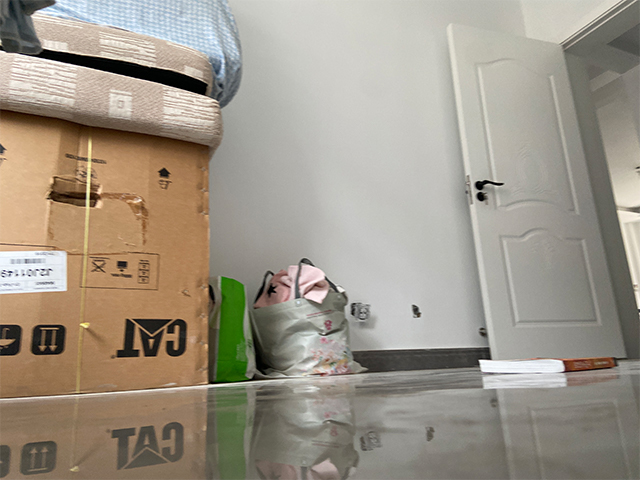book: (477, 355, 619, 374)
